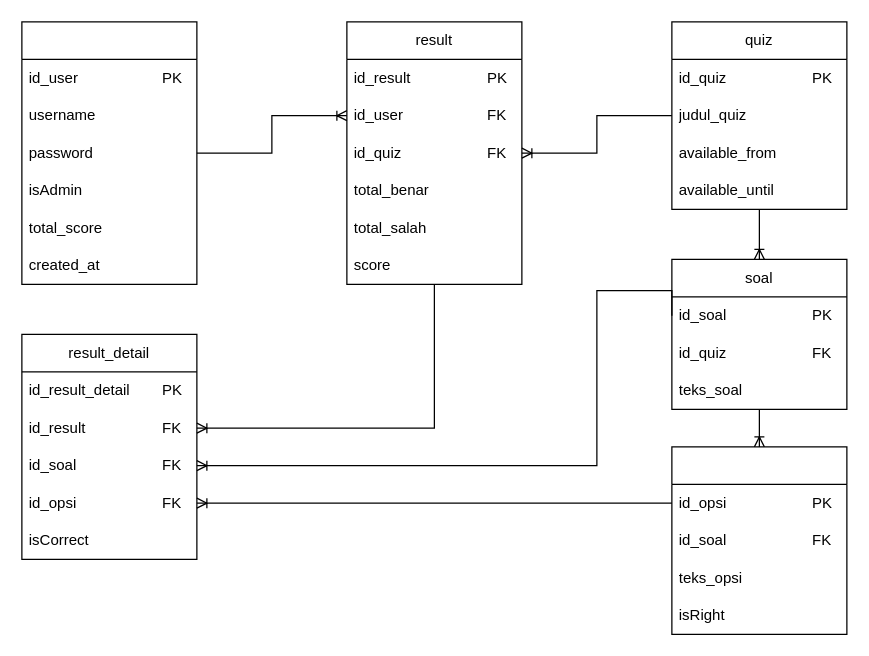
The diagram is 869 pixels wide and 656 high, and some of its shapes have lost their labels. Here are the shapes that lost their labels. From the top down, the box of each, then its label:
(21, 21, 197, 284): users
(671, 446, 847, 634): list_opsi
